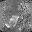people: (10, 15, 20, 27)
